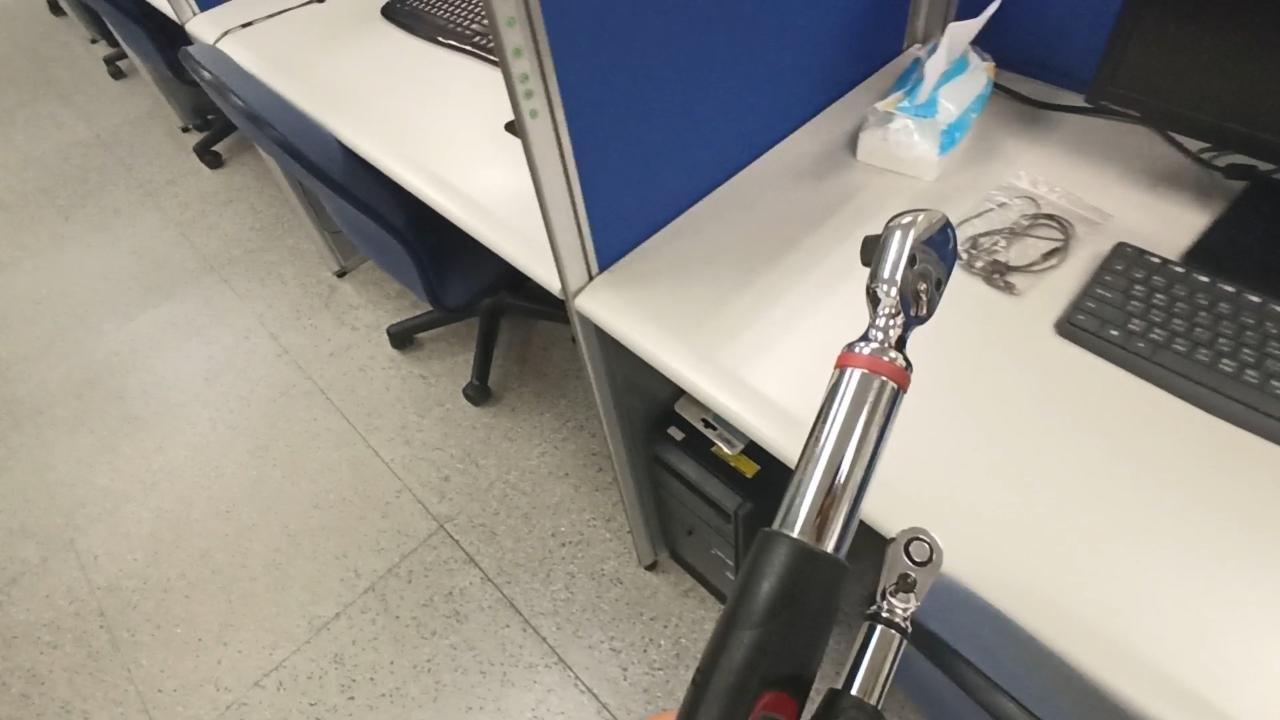Tool: (852, 202, 962, 352), (872, 526, 956, 616)
